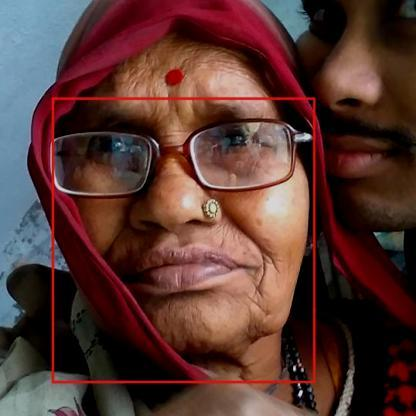without_mask: (53, 98, 314, 382)
